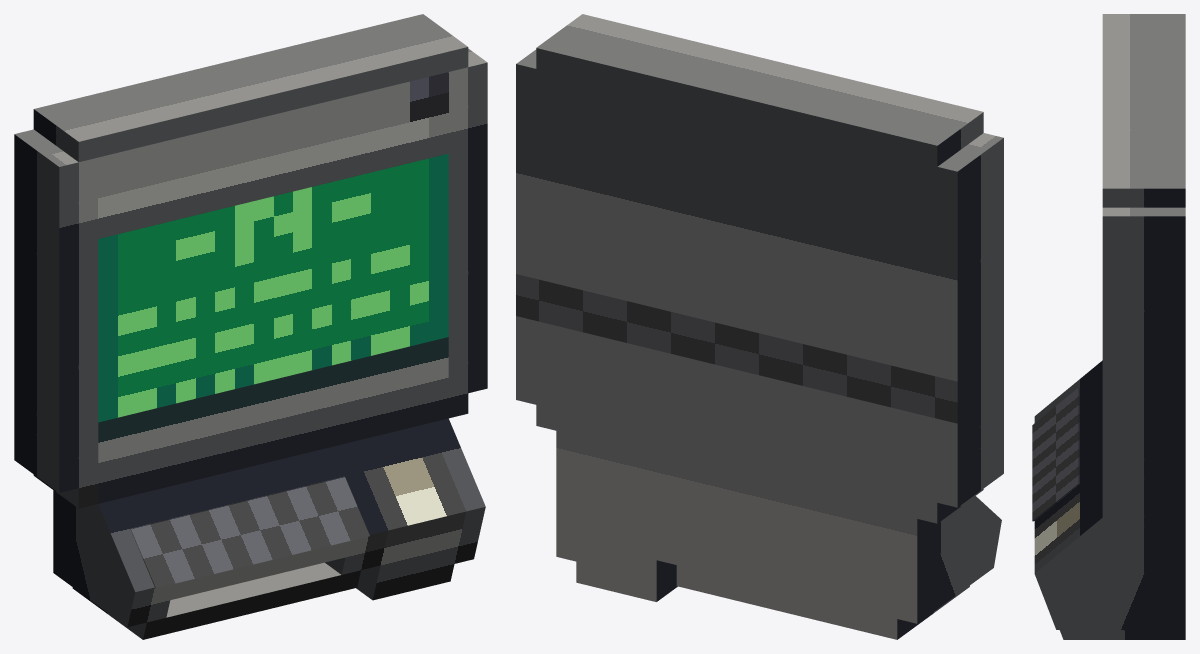
The model's file is newscaster_normal.glb.
The picture shows the model from 3 angles, left to right: view 1: azimuth 30°, elevation 25°; view 2: azimuth 150°, elevation 25°; view 3: azimuth 270°, elevation 25°; orthographic projection. The views are drawn at different scales.
Parts seen in each view (by area): view 1: Continuous_Housing, Screen_Overlay, Keyboard_Panel; view 2: Continuous_Housing; view 3: Continuous_Housing, Keyboard_Panel.
Boxes of the visible parts, x1,y1,x2,y2 form: Continuous_Housing: (14,14,487,639); Screen_Overlay: (98,153,448,422); Keyboard_Panel: (130,476,369,588); Continuous_Housing: (516,14,1003,639); Continuous_Housing: (1034,14,1185,639); Keyboard_Panel: (1032,387,1079,521).
Size of the model in its own units: 0.6188 by 0.7031 by 0.2081.
3 materials, 3 textured.
